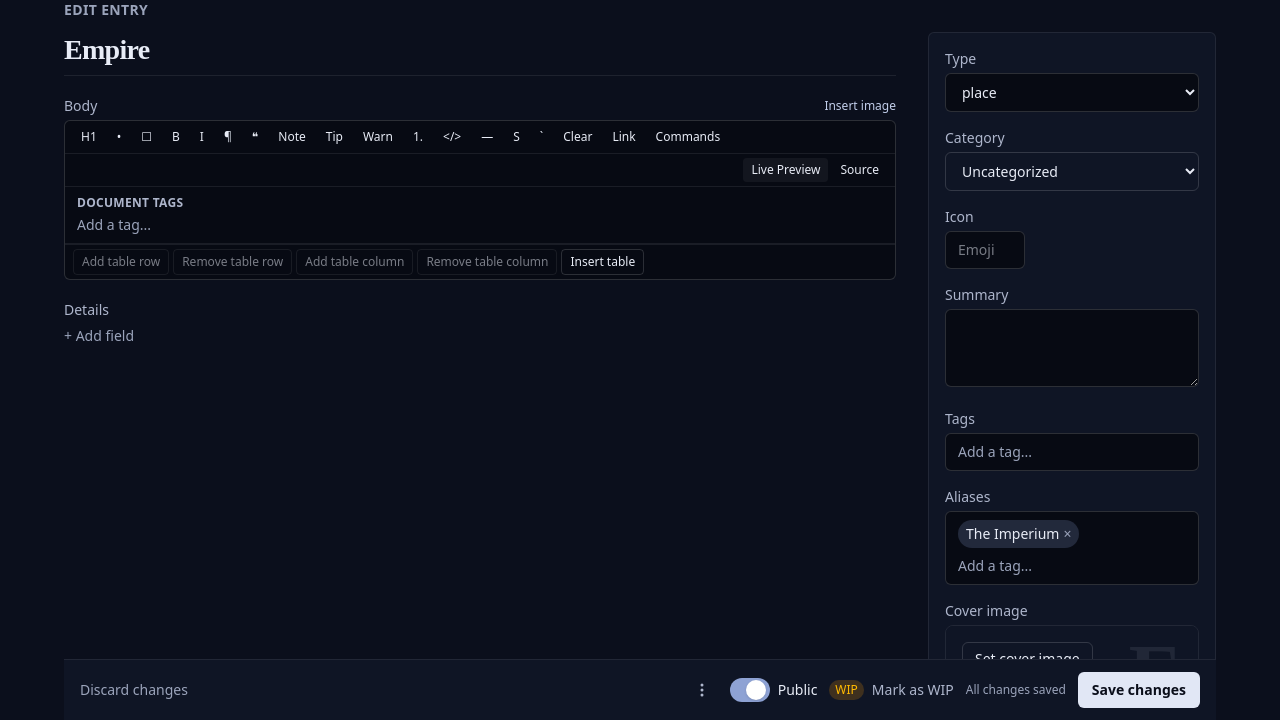
Test: EntryEditor rename-propagation two-phase save › D-10: after Proceed, "N links rewritten" after-summary is shown via toast
Expected: the button "Save changes" is shown, [1078, 672, 1200, 708]
Replace the text in the field named "title" with "Imperium". click: (480, 54)
box: [64, 32, 896, 76]
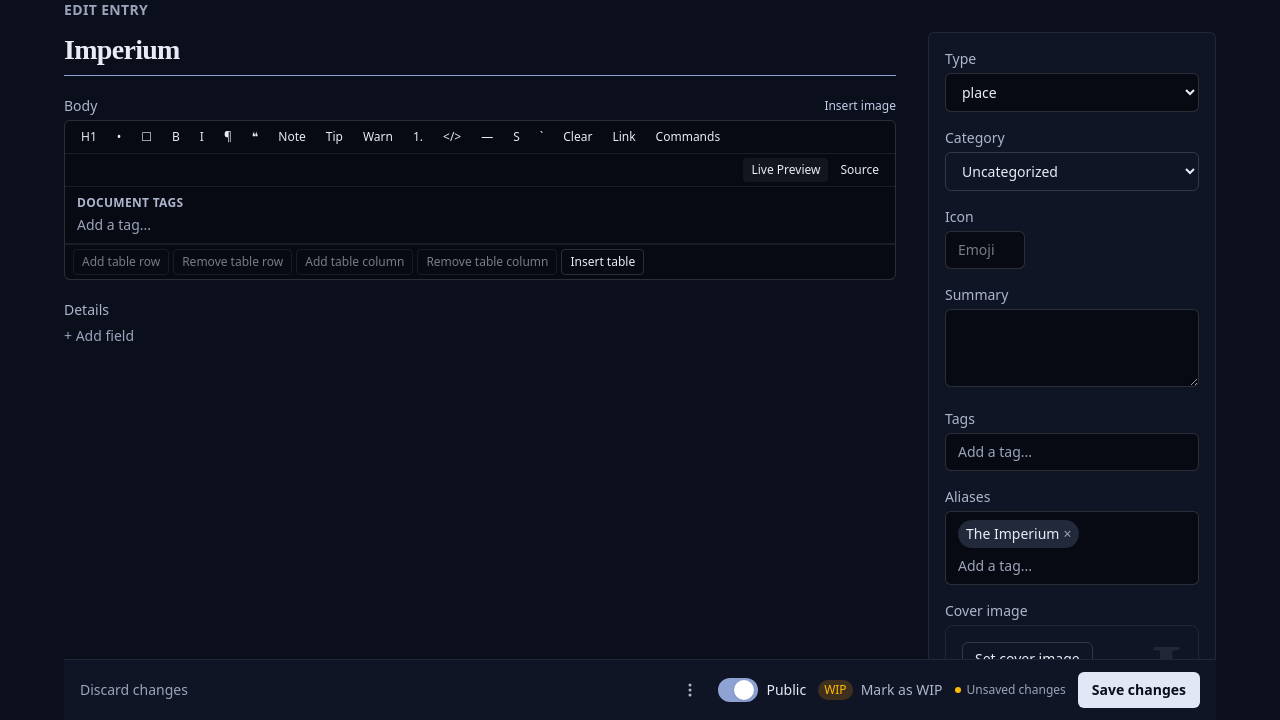
Click the button "Save changes". click: (1139, 690)
box: [1078, 672, 1200, 708]
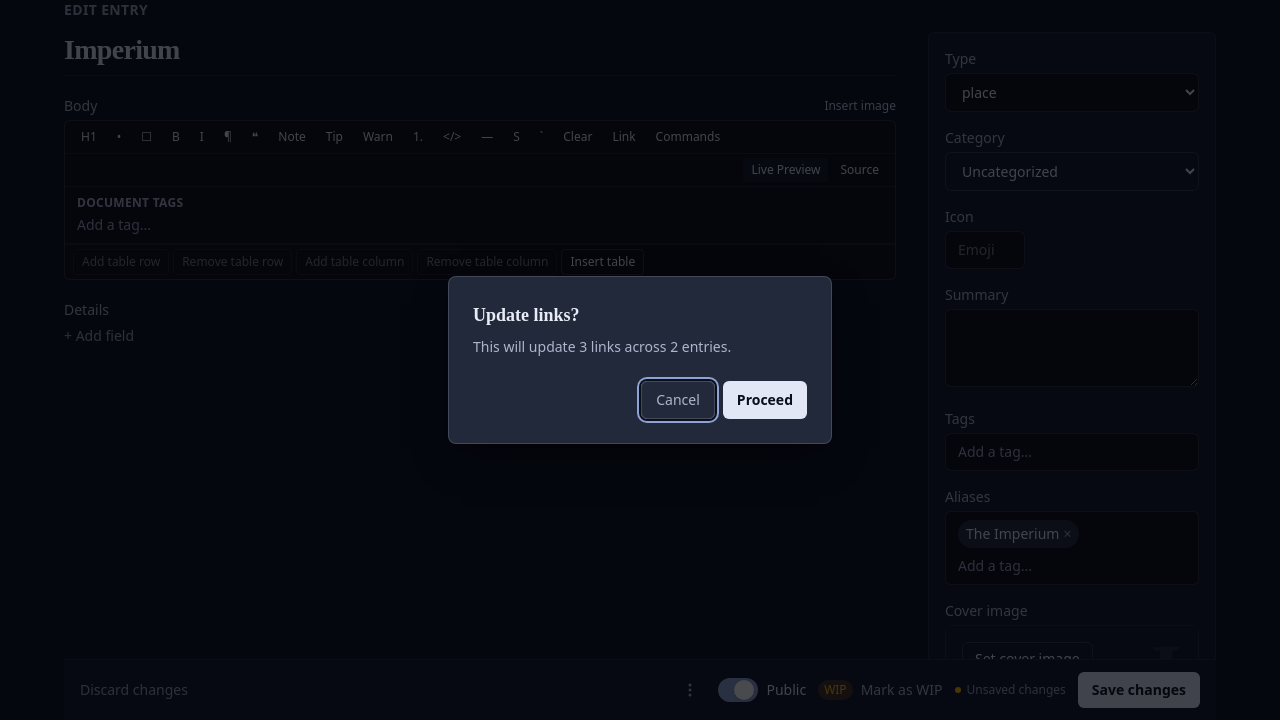
Expected: the dialog is shown, [448, 276, 832, 444]
Note: Click Proceed
Click the button "Proceed". click: (765, 400)
box: [723, 381, 807, 419]
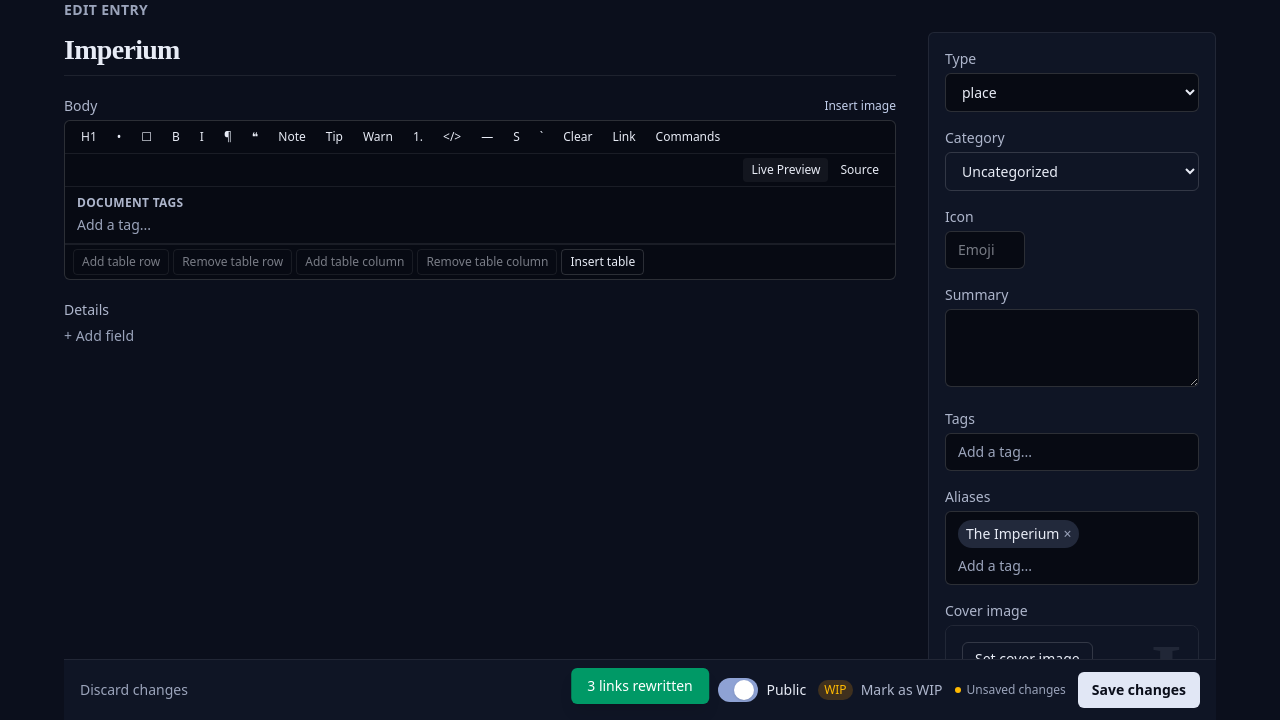
Expected: the text "3 links rewritten" is shown, [571, 668, 709, 704]
